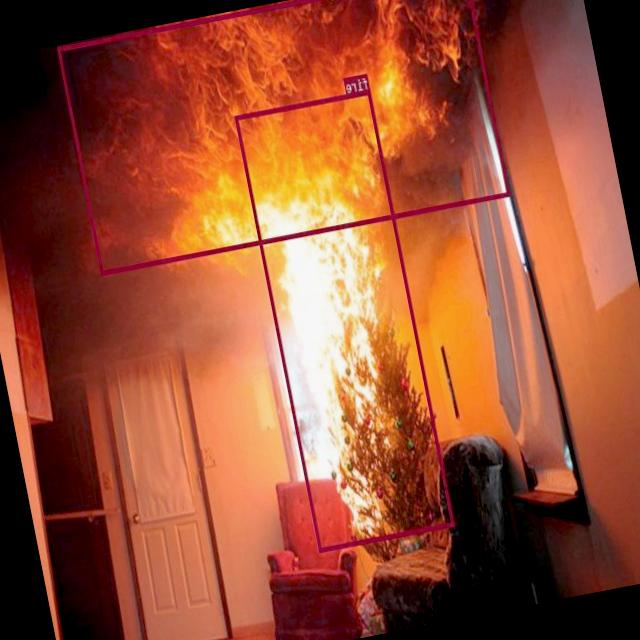fire: (57, 0, 510, 274), (235, 89, 456, 552)
